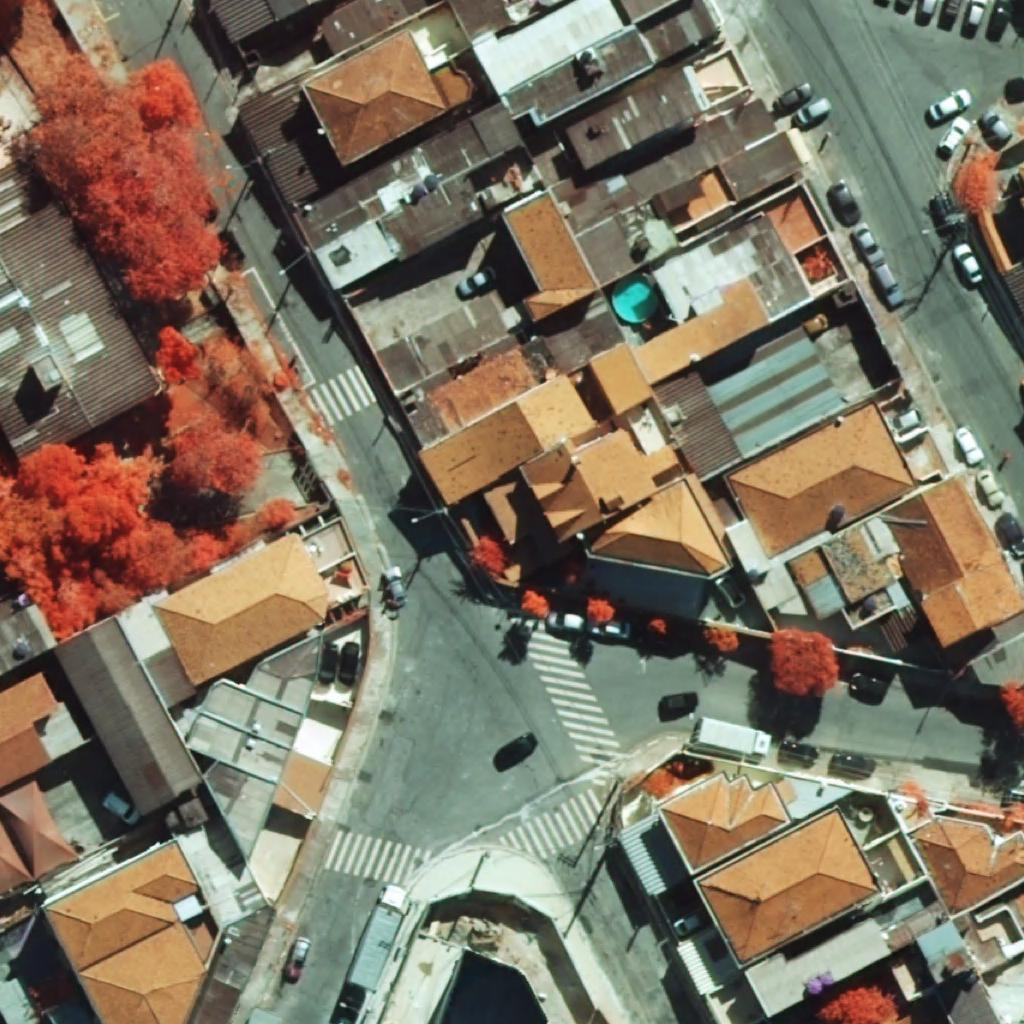pool: (612, 279, 657, 323)
